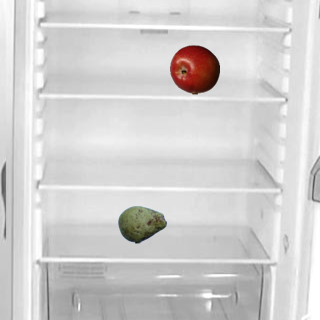Apple Braeburn: (169, 44, 219, 94)
Pear Stone: (117, 199, 167, 249)
